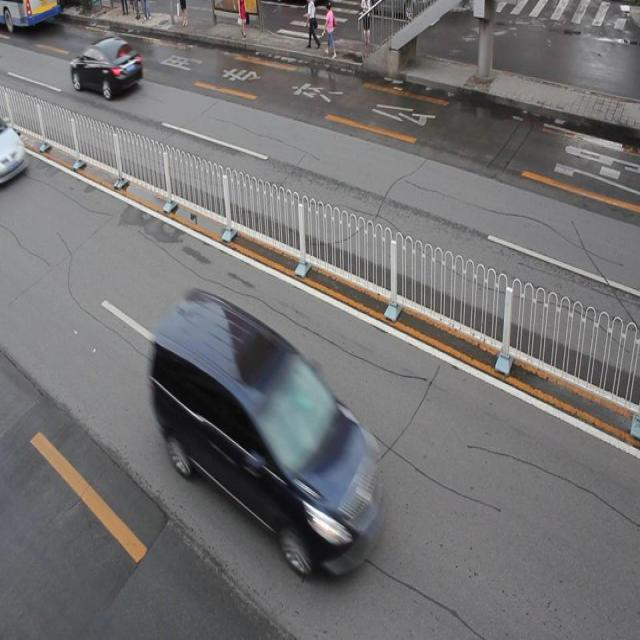car: (69, 34, 144, 99), (1, 120, 30, 186)
truck: (152, 290, 379, 574)
